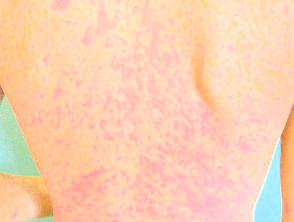SJS-TEN: (41, 0, 272, 222)
